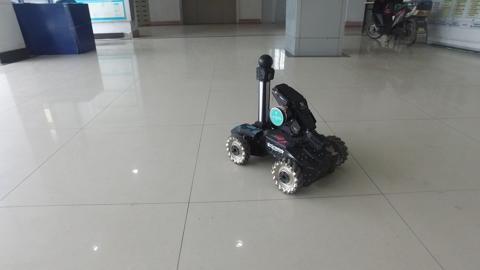chariot: (225, 53, 348, 195)
